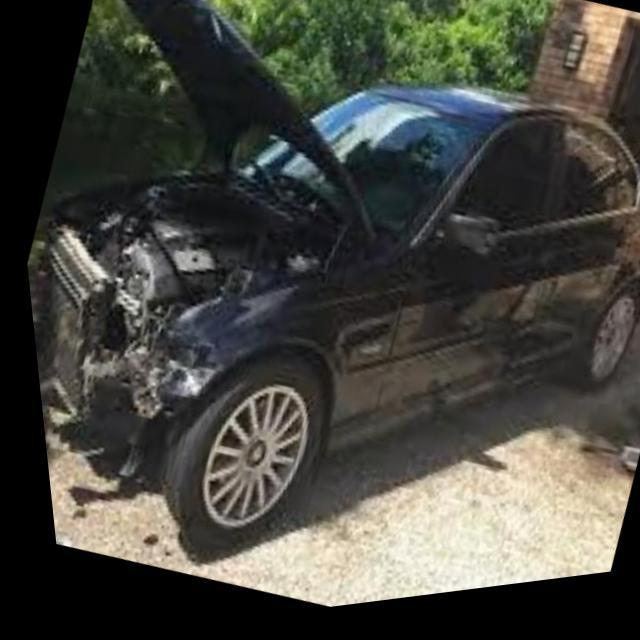no part: (25, 207, 295, 478)
